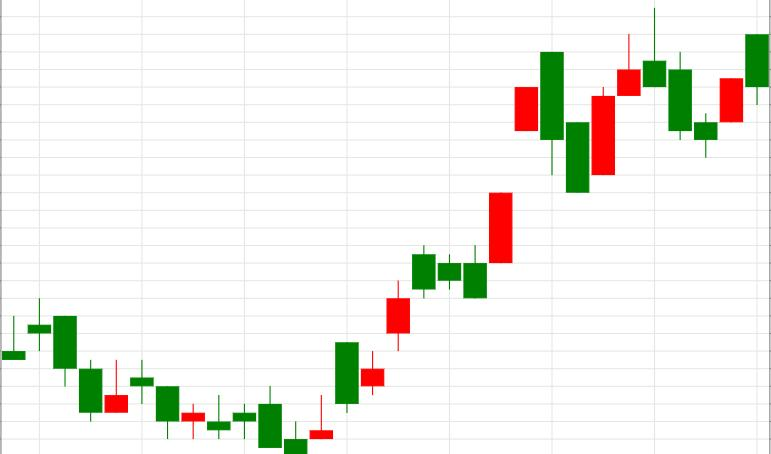bearish_engulfing_fall: (361, 53, 564, 395)
